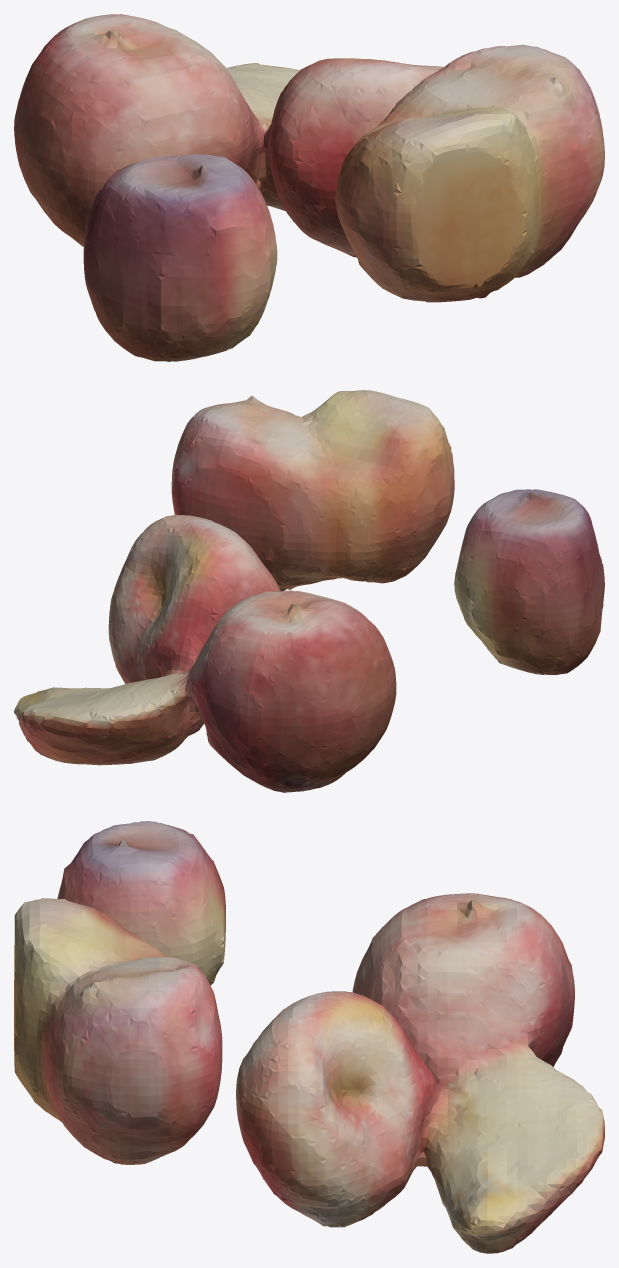
3 views of the same model, one above another, from view 1: azimuth 30°, elevation 25°; view 2: azimuth 150°, elevation 25°; view 3: azimuth 270°, elevation 25° (orthographic). The views are drawn at different scales.
Parts seen in each view (by area): view 1: model.glb; view 2: model.glb; view 3: model.glb.
Boxes of the visible parts, x1,y1,x2,y2 form: model.glb: (14,14,604,361); model.glb: (14,390,604,792); model.glb: (14,821,604,1253).
Size of the model in its own units: 0.9276 by 0.501 by 1.
